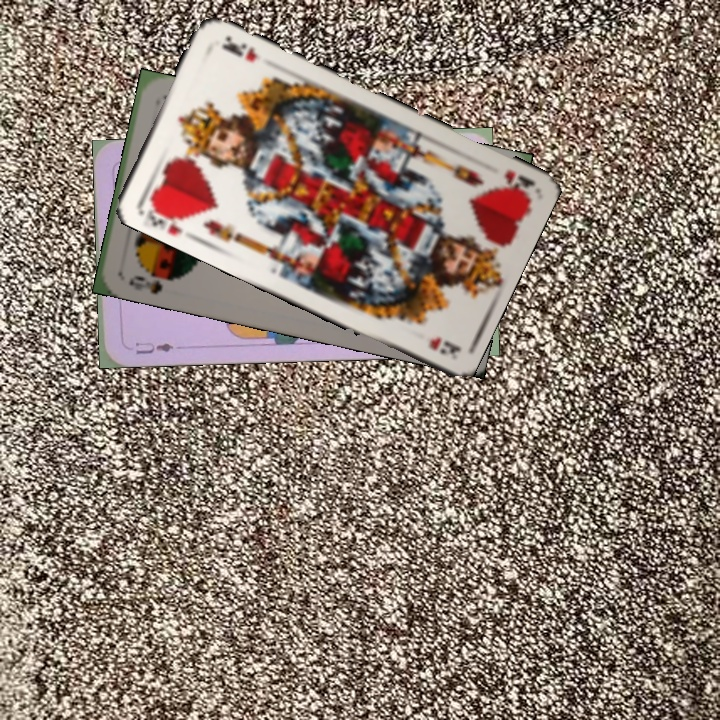EU: (131, 338, 177, 357)
HK: (135, 195, 193, 238), (496, 165, 536, 199)
SO: (125, 271, 165, 296)
